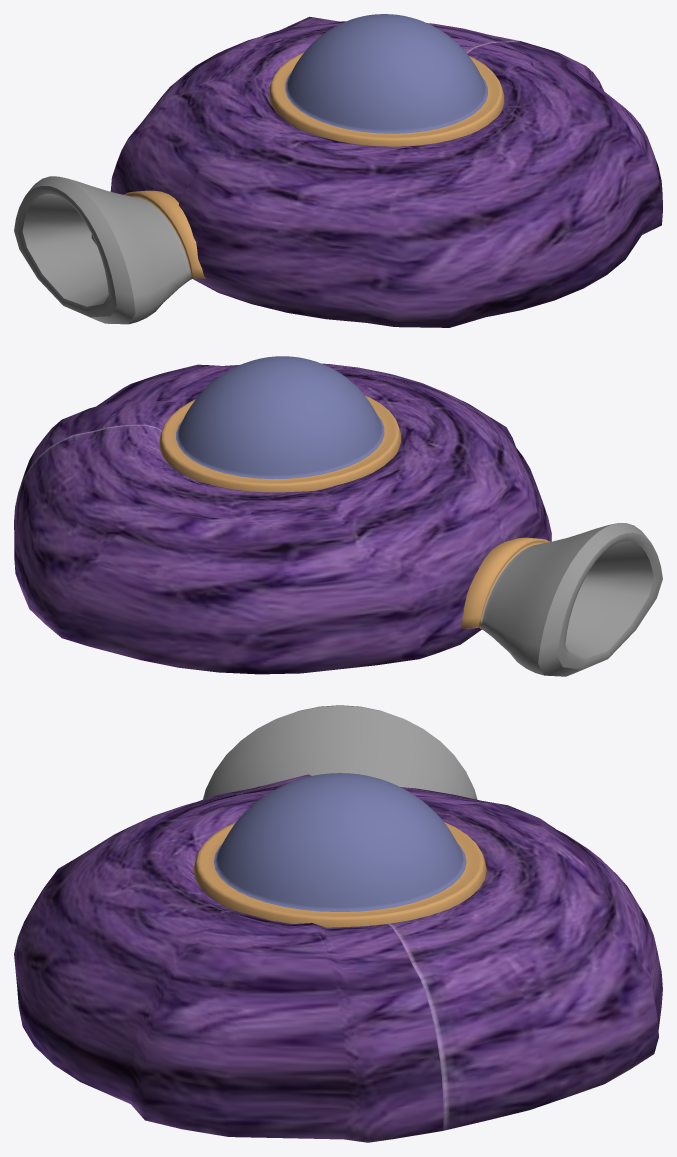
The model's file is catShip.fbx.
3 views of the same model, one above another, from view 1: azimuth 30°, elevation 25°; view 2: azimuth 150°, elevation 25°; view 3: azimuth 270°, elevation 25° (orthographic). The views are drawn at different scales.
Parts seen in each view (by area): view 1: pSphere2.002, pSphere2.001, pSphere2; view 2: pSphere2.002, pSphere2.001, pSphere2; view 3: pSphere2.002, pSphere2.001, pSphere2.
Part boxes in pixels (x1,y1,x2,y2): pSphere2.002: [110, 16, 662, 327]; pSphere2.001: [269, 14, 504, 146]; pSphere2: [14, 176, 205, 324]; pSphere2.002: [14, 363, 551, 674]; pSphere2.001: [159, 356, 401, 492]; pSphere2: [461, 523, 662, 676]; pSphere2.002: [14, 774, 662, 1142]; pSphere2.001: [193, 773, 486, 927]; pSphere2: [203, 705, 477, 799].
Bounding box in the file's own units: 421 × 153 × 357.
